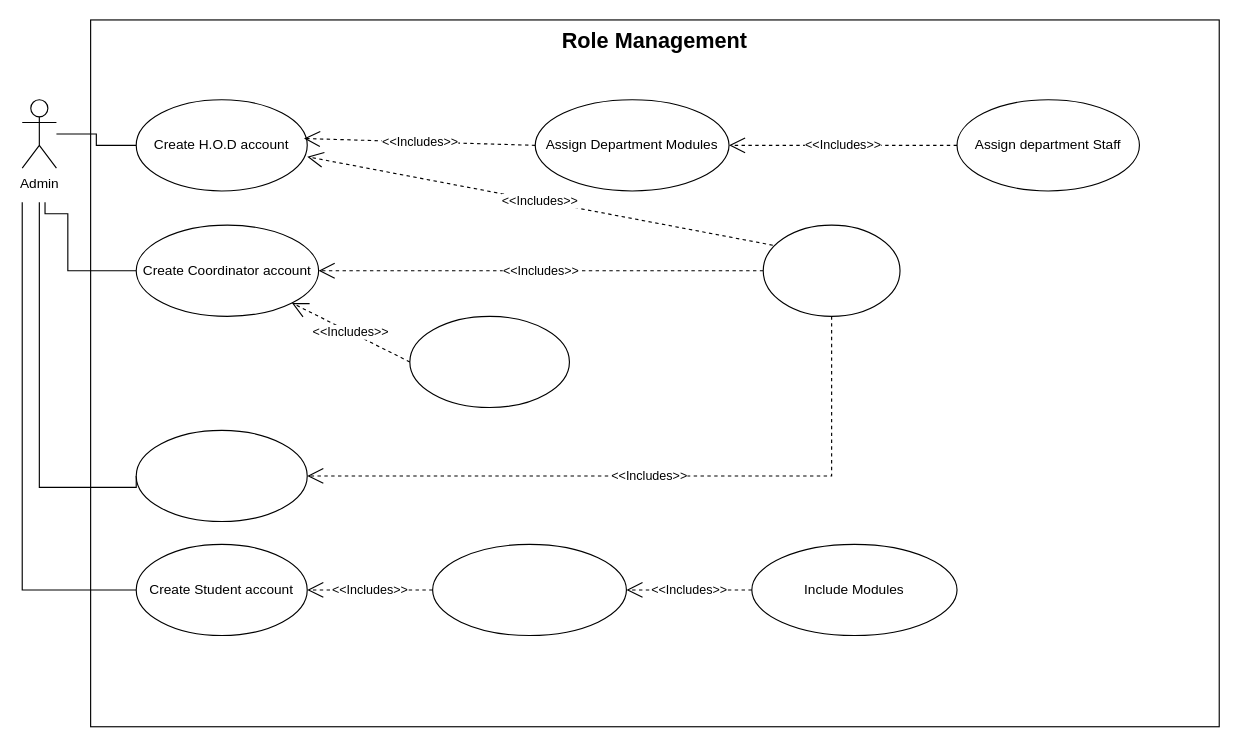
Some shapes in this 1239 by 747 pixel diagram are drawn without their labels. The centre of each missing label's shape, as x and y in pixels:
Assign Department: the point at 831,270
Assign Modules: the point at 489,361
Create Lecturer account: the point at 221,475
Enroll in Course: the point at 528,589
